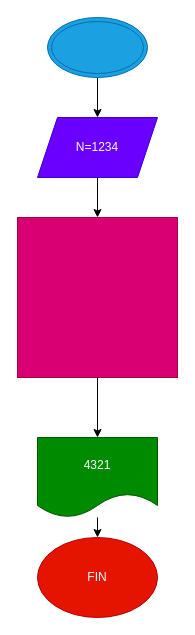
Some shapes in this 195 by 635 pixel diagram are drawn without their labels. Here are the shapes that lost their labels. From the top down, the centre of each, then its label:
At pixel 97 47: "INICIO".
At pixel 97 297: "d1=(n%10)*1000 pe=n//10 d2(pe%10)*100 pe=pe//10 d3=(pe%10)*10 d4=pe//10".
